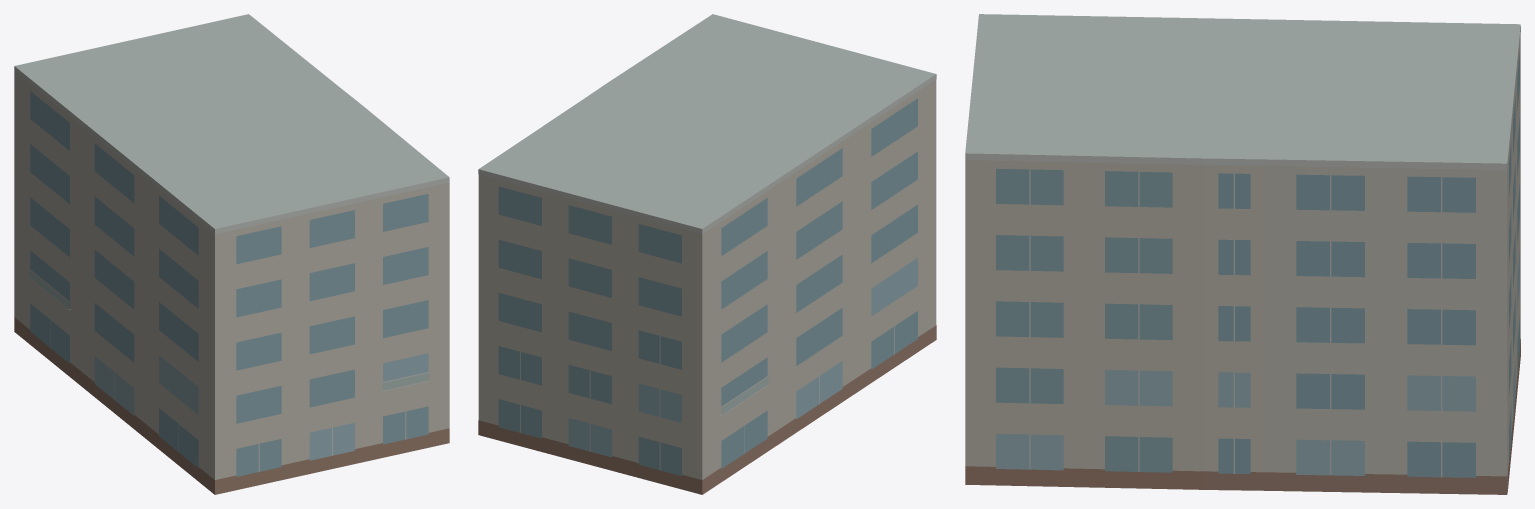
The model's file is survey-upis-32653458.glb.
The picture shows the model from 3 angles, left to right: view 1: azimuth 30°, elevation 25°; view 2: azimuth 150°, elevation 25°; view 3: azimuth 270°, elevation 25°; orthographic projection. The views are drawn at different scales.
Visible parts, largest first — view 1: survey-upis-32653458.tmp; view 2: survey-upis-32653458.tmp; view 3: survey-upis-32653458.tmp.
Boxes of the visible parts, x1,y1,x2,y2 form: survey-upis-32653458.tmp: [14, 14, 449, 494]; survey-upis-32653458.tmp: [478, 14, 936, 494]; survey-upis-32653458.tmp: [965, 14, 1520, 494].
Bounding box in the file's own units: 12.11 × 12.5 × 19.01.
